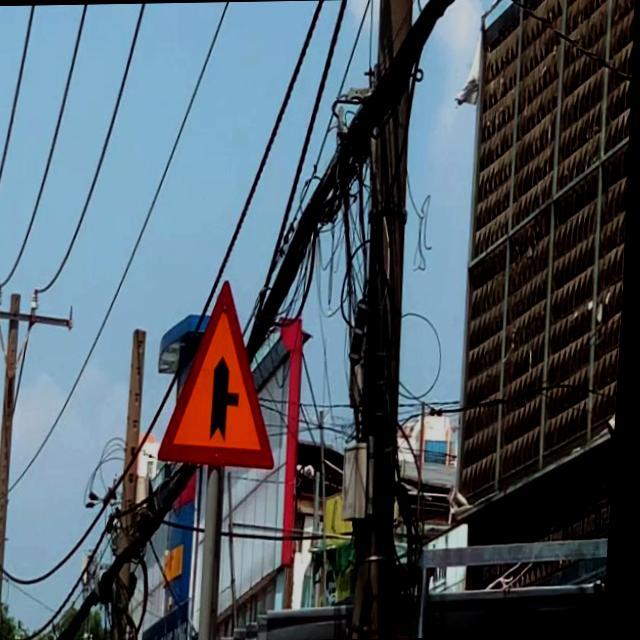Giao nhau voi duong khong uu tien ben phai: (158, 278, 290, 474)
